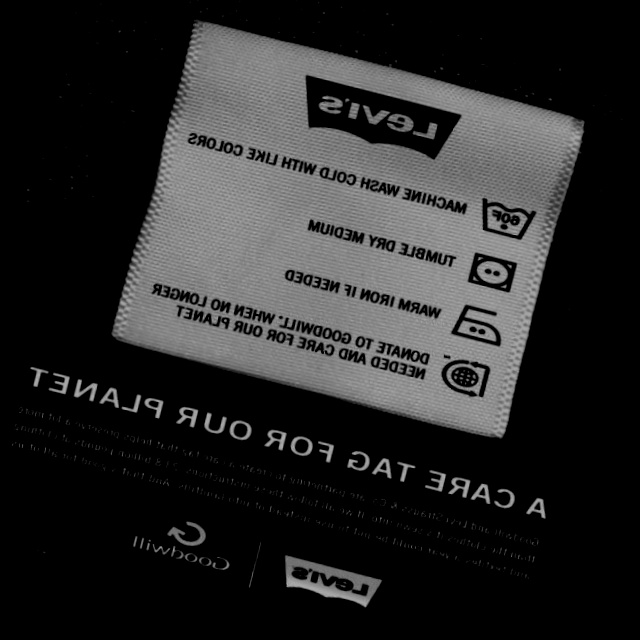30C: (470, 188, 541, 248)
iron_medium: (444, 296, 513, 353)
tumble_dry_medium: (460, 248, 524, 300)
